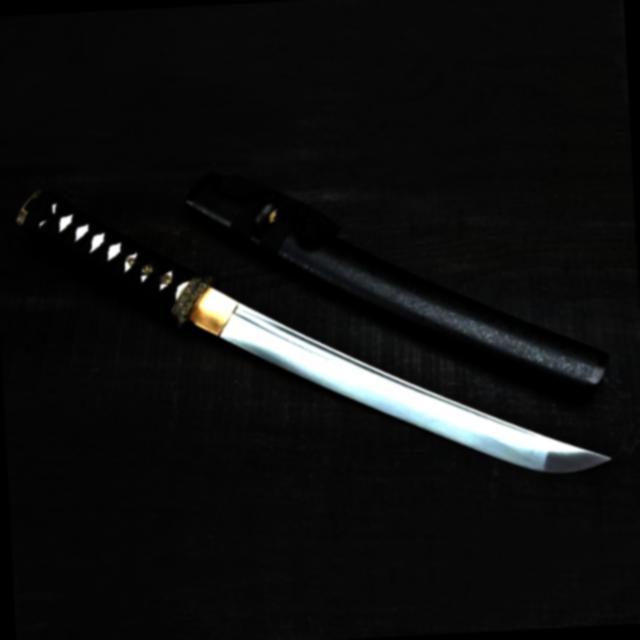short sword: (0, 137, 640, 520)
